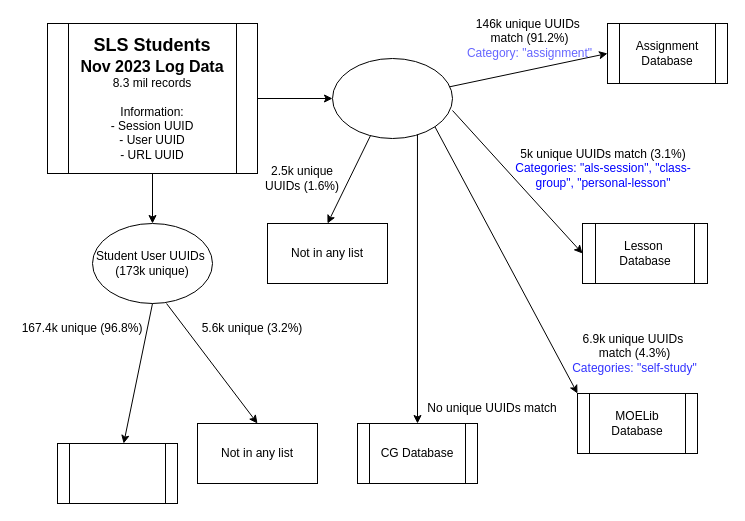
Some shapes in this 745 by 521 pixel diagram are drawn without their labels. The centre of each missing label's shape, as x and y in pixels:
URL UUIDs (160k unique): (x=392, y=98)
User/School Database: (x=117, y=473)
